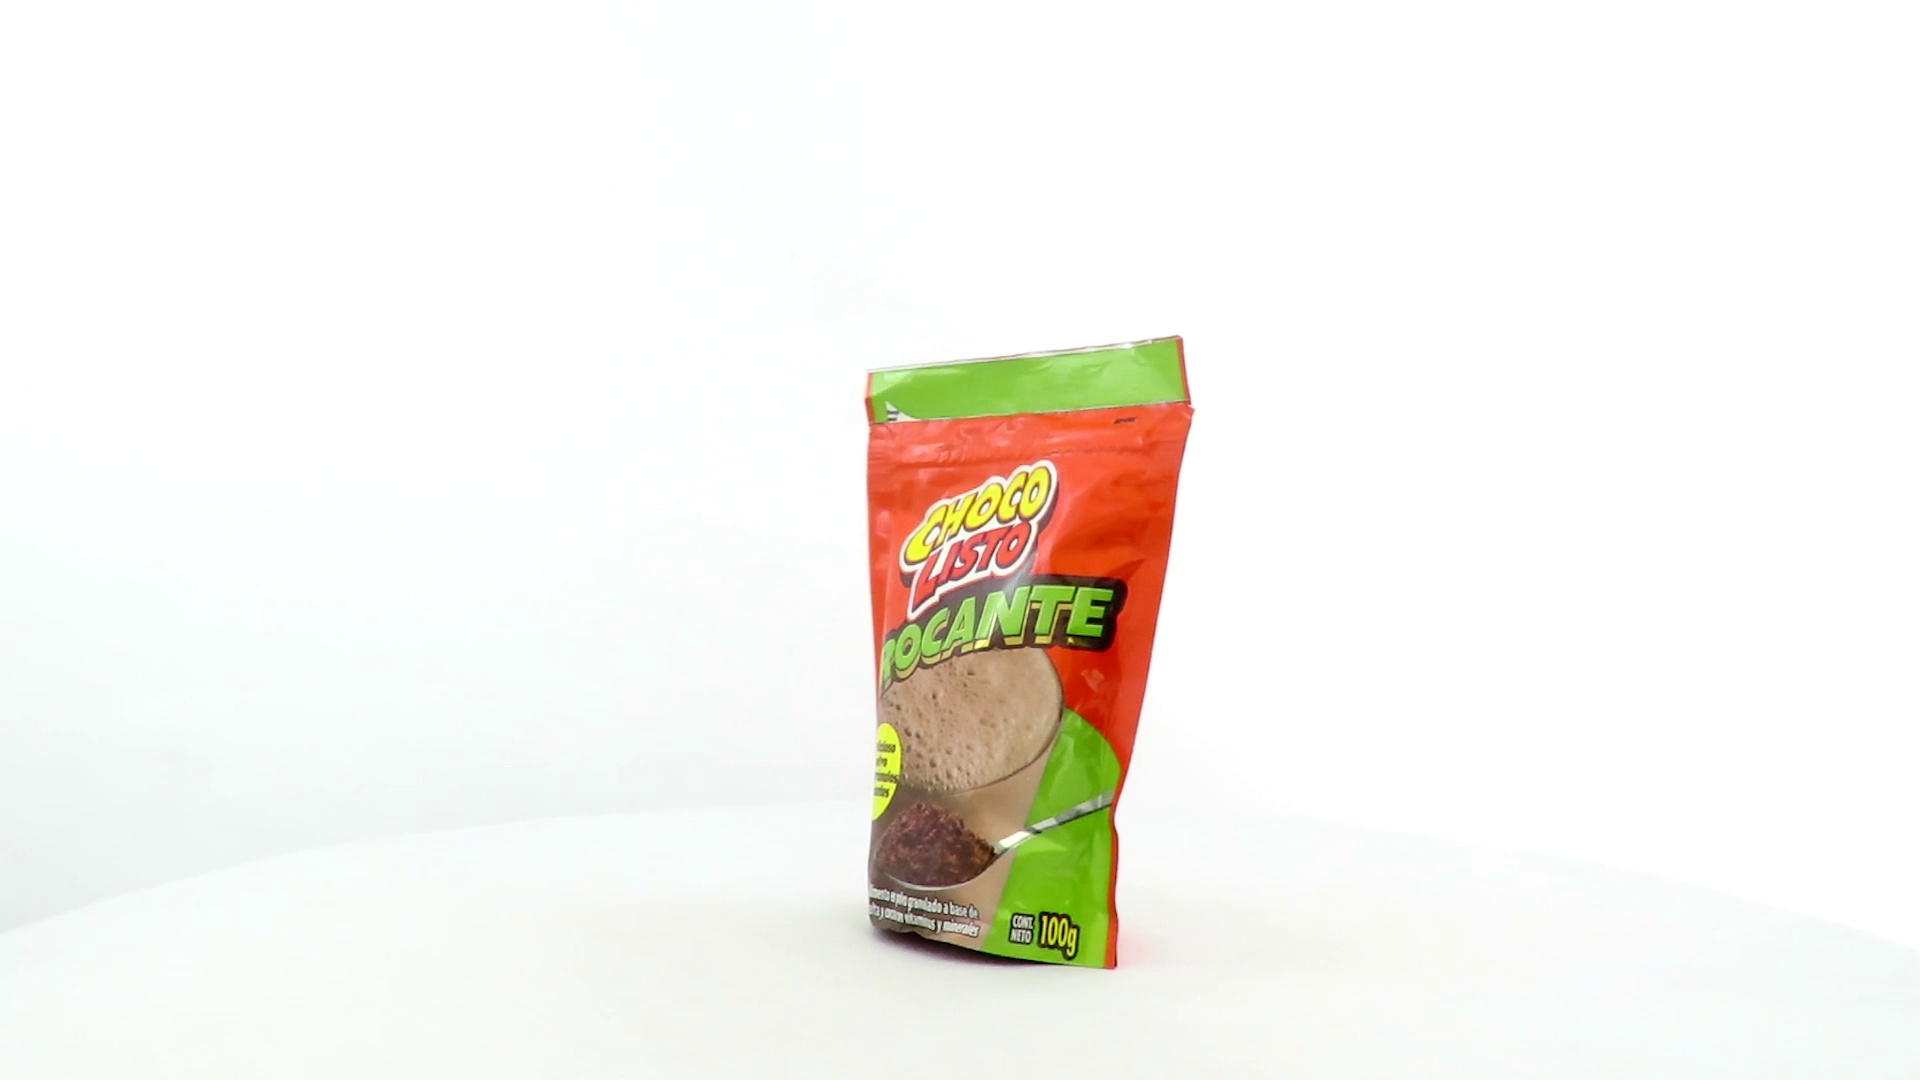COL0170102DYP10000: (858, 330, 1201, 976)
